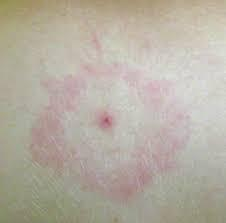Tick: (63, 74, 162, 181)
